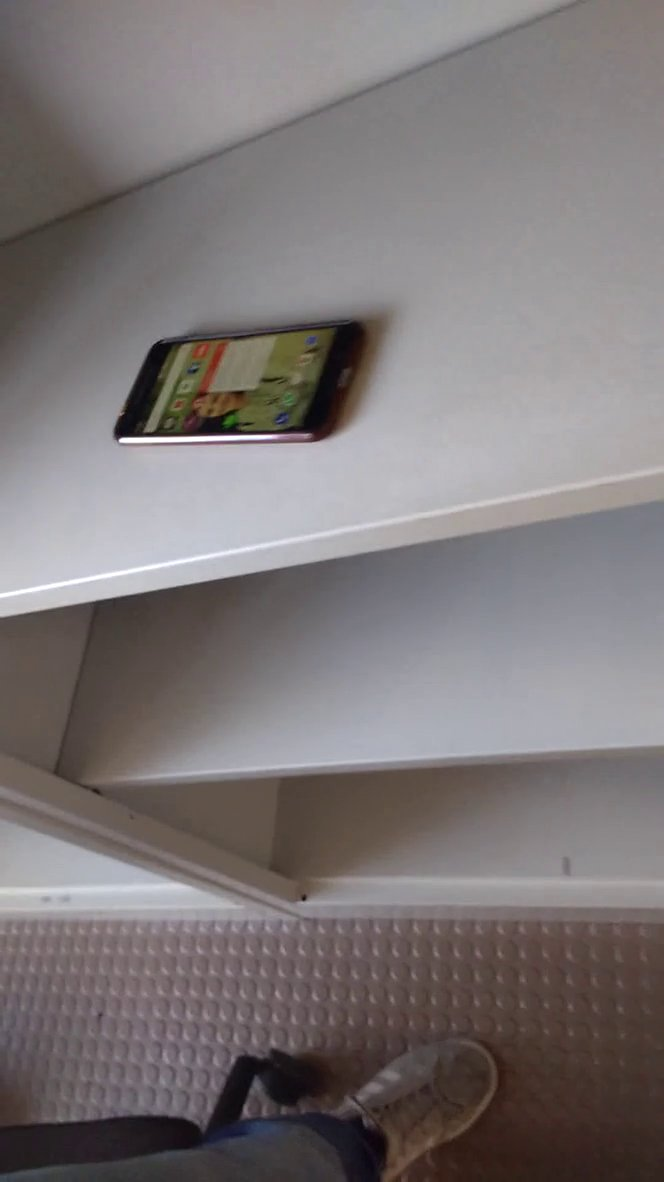phone: (103, 311, 375, 456)
